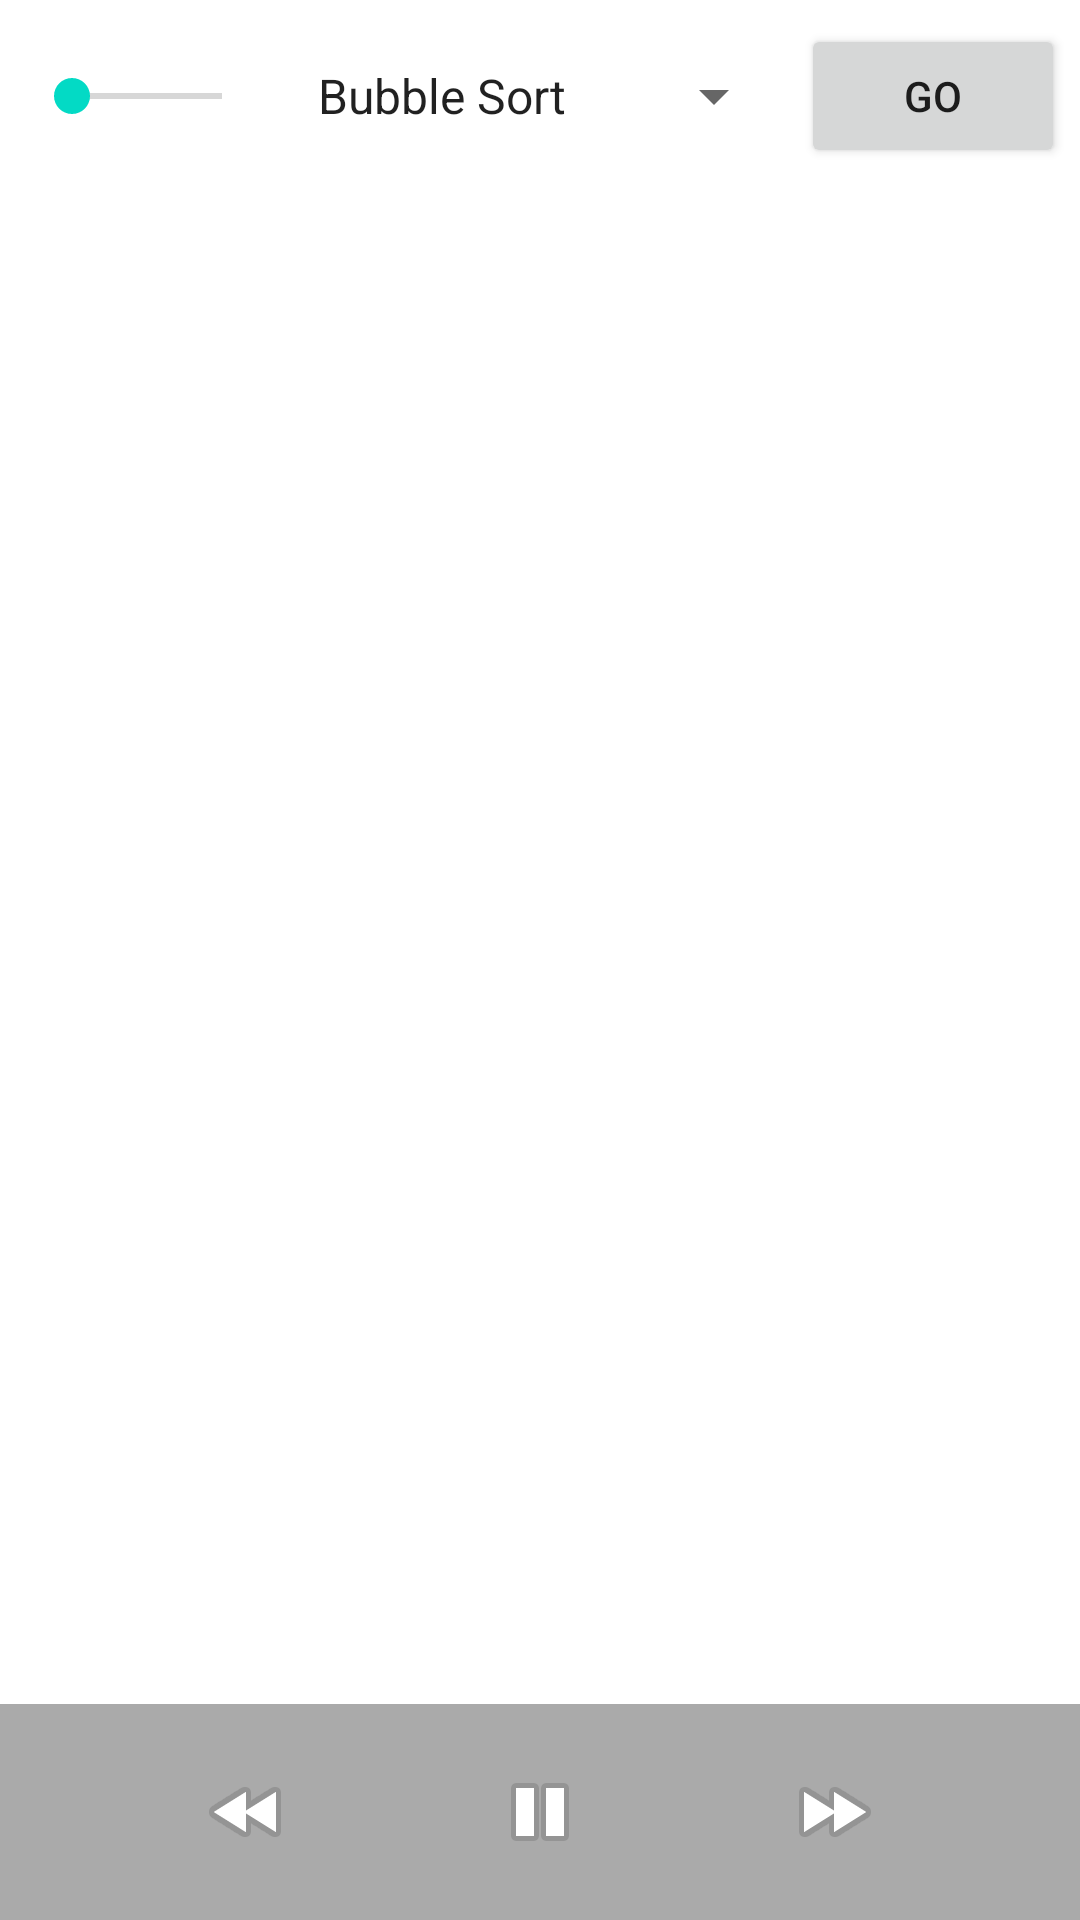

Icons on this 1080px×1920px Android screen, each with its box as (x1=x1, y1=y1, x2=x2, y2=y2):
pause: (x1=516, y1=1788, x2=564, y2=1836)
rew: (x1=214, y1=1792, x2=276, y2=1832)
